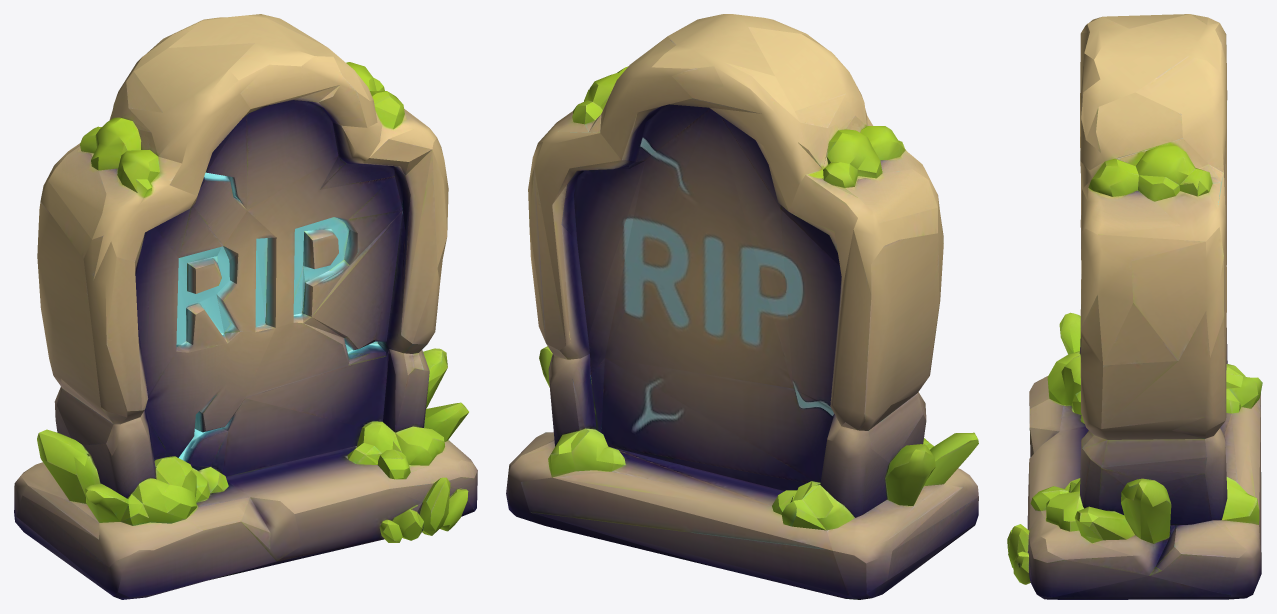
Rendered from gravestone_round.glb.
3 renders of one model, left to right at view 1: azimuth 30°, elevation 25°; view 2: azimuth 150°, elevation 25°; view 3: azimuth 270°, elevation 25°, orthographic.
Size of the model in its own units: 1.63 by 1.9 by 0.9035.
1 material, 1 textured.
